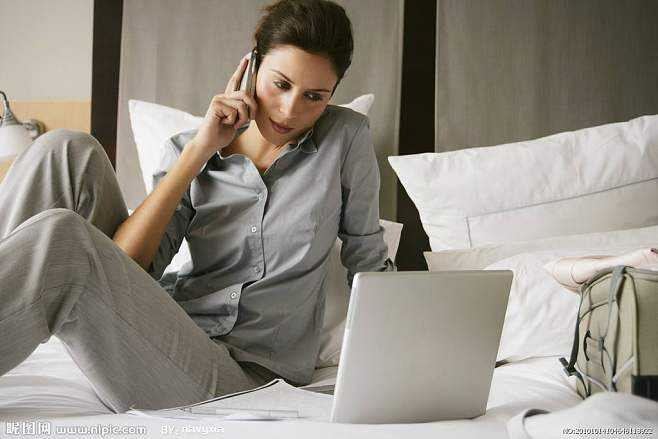calling: (196, 50, 261, 152)
